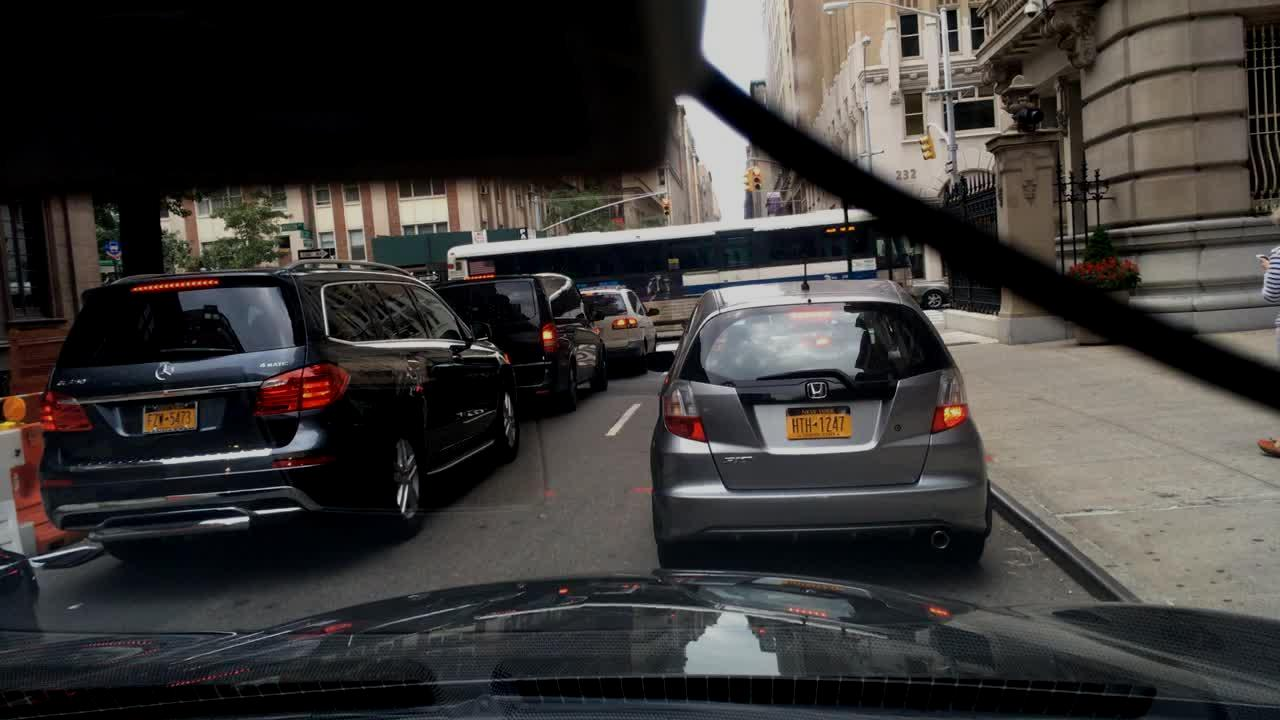Honda: (805, 378, 832, 400)
Mercedes: (147, 356, 179, 391)
